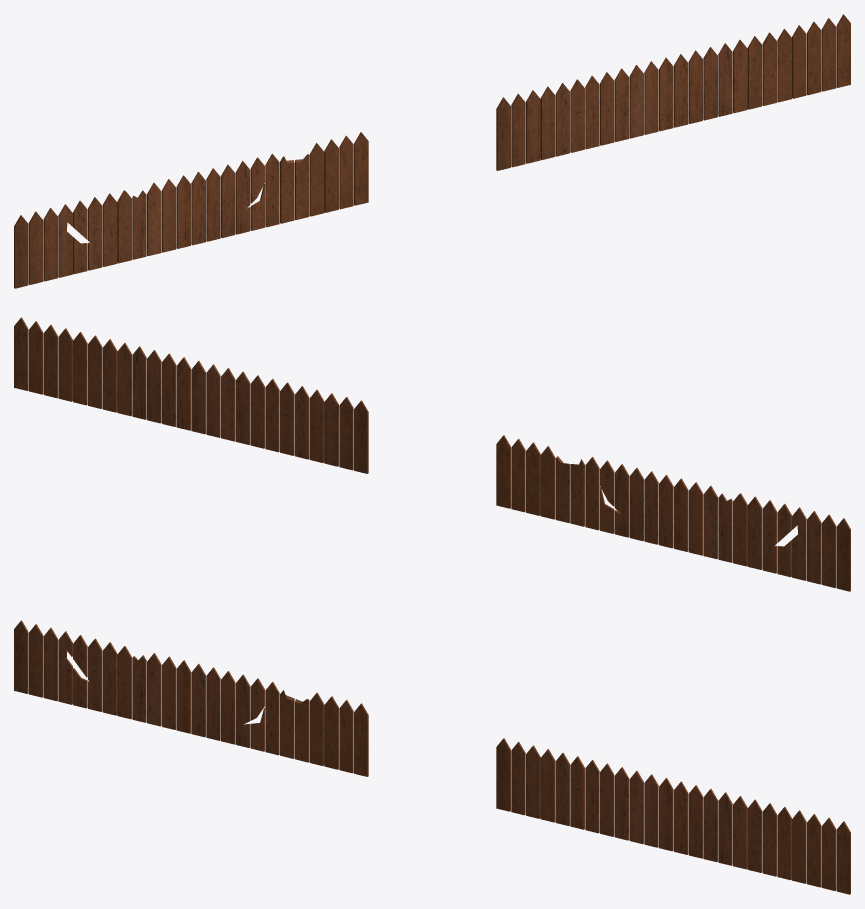
The model's file is cerca.fbx.
3 renders of one model, top to bottom at view 1: azimuth 30°, elevation 25°; view 2: azimuth 150°, elevation 25°; view 3: azimuth 330°, elevation 25°, orthographic.
Visible parts, largest first — view 1: cerca2, cerca1; view 2: cerca2, cerca1; view 3: cerca2, cerca1.
Boxes of the visible parts, bbox=[...] form: cerca2: bbox=[496, 14, 850, 170]; cerca1: bbox=[14, 132, 368, 288]; cerca2: bbox=[14, 317, 368, 473]; cerca1: bbox=[496, 435, 850, 591]; cerca2: bbox=[496, 738, 850, 894]; cerca1: bbox=[14, 620, 368, 776].
Bounding box in the file's own units: 79.84 × 6.52 × 0.1722.
1 material, 1 textured.
